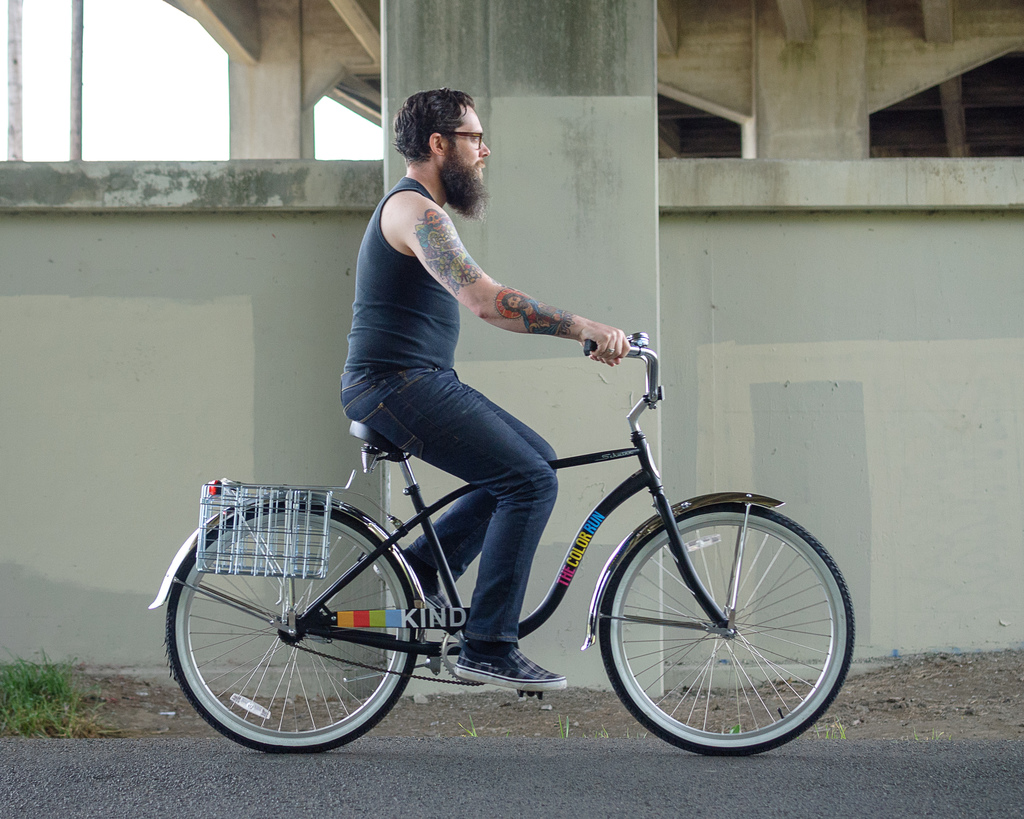Bike: (163, 291, 855, 786)
